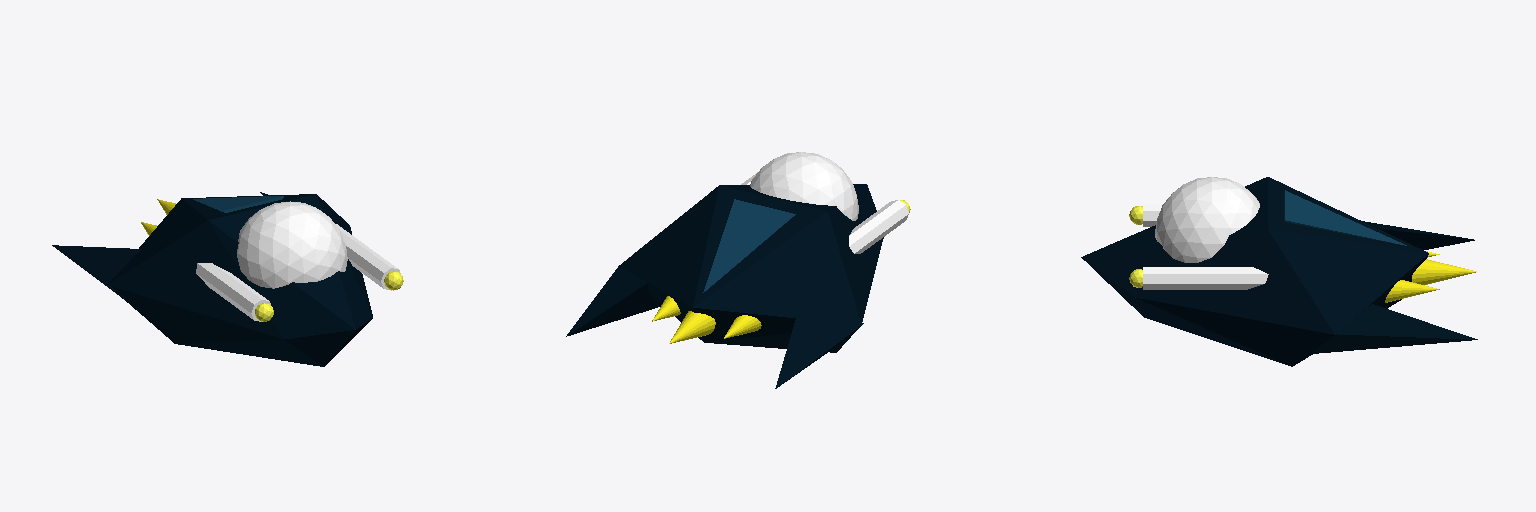
The model's file is Cockpit.obj.
3 views of the same model, side by side, from view 1: azimuth 30°, elevation 25°; view 2: azimuth 150°, elevation 25°; view 3: azimuth 270°, elevation 25° (orthographic).
Visible parts, largest first — view 1: Cockpit; view 2: Cockpit; view 3: Cockpit.
Part boxes in pixels (x1,y1,x2,y2): Cockpit: (52,192,403,366); Cockpit: (566,152,910,388); Cockpit: (1081,177,1477,366).
Bounding box in the file's own units: 3.41 × 1.99 × 4.83.